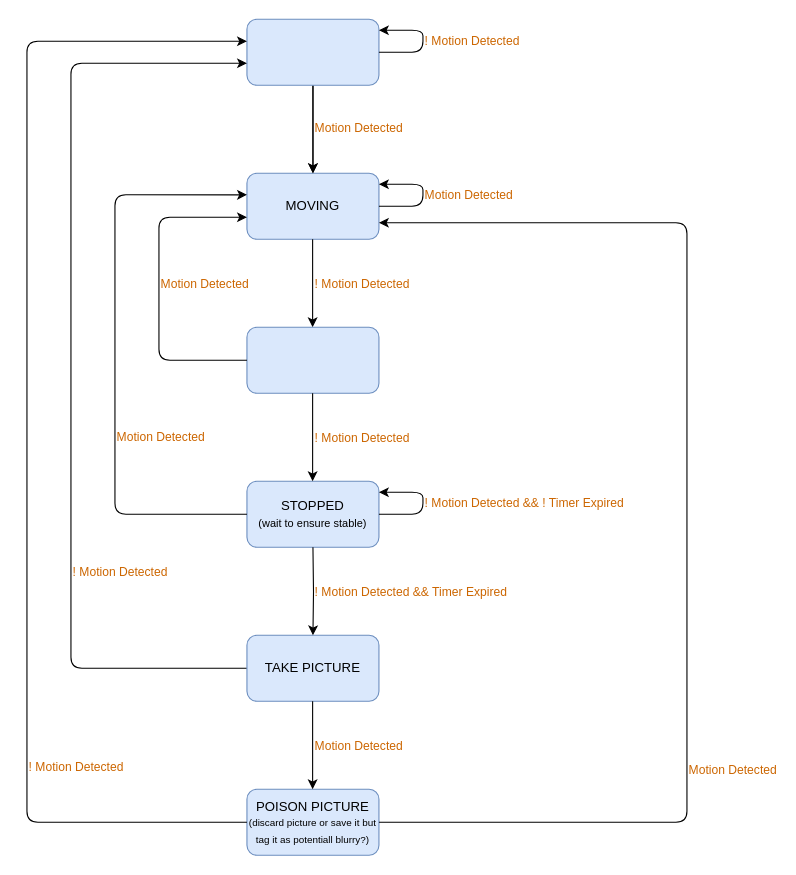
Image size: 796x875. Some labels were removed from this diagram. Each missing label, with the centre of its shape:
"INITIALIZE TIMER" belongs at point 312,359.
"STILL (wait for motion)" belongs at point 312,51.
